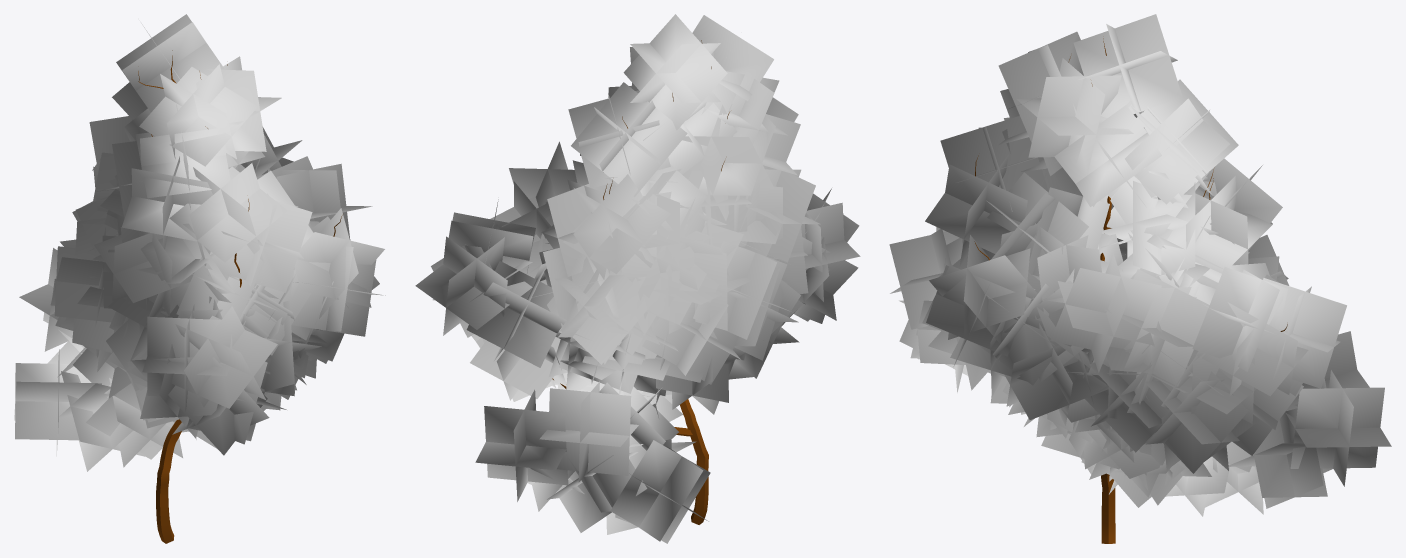
The model's file is tree2_LOD1.fbx.
3 renders of one model, left to right at view 1: azimuth 30°, elevation 25°; view 2: azimuth 150°, elevation 25°; view 3: azimuth 270°, elevation 25°, orthographic. The views are drawn at different scales.
Visible parts, largest first — view 1: transform1; view 2: transform1; view 3: transform1.
Boxes of the visible parts, box(x1,y1,x2,y2) form: transform1: box(14, 14, 385, 543); transform1: box(415, 14, 860, 543); transform1: box(889, 14, 1391, 543).
Size of the model in its own units: 551 by 876 by 748.
